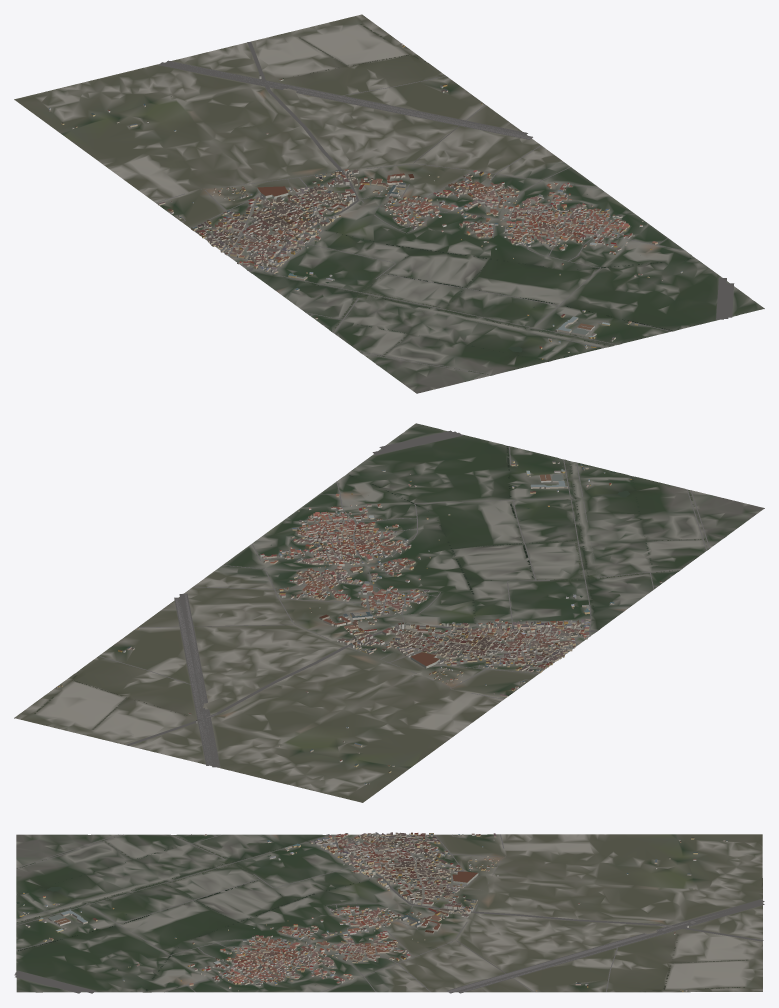
3 views of the same model, one above another, from view 1: azimuth 30°, elevation 25°; view 2: azimuth 150°, elevation 25°; view 3: azimuth 270°, elevation 25° (orthographic). The views are drawn at different scales.
Visible parts, largest first — view 1: ground, buildings, roads, water; view 2: ground, buildings, roads, water; view 3: ground, buildings, roads, water.
Part boxes in pixels (x1,y1,x2,y2): ground: [14, 14, 764, 393]; buildings: [48, 43, 682, 359]; roads: [155, 41, 734, 375]; water: [281, 24, 692, 375]; ground: [14, 423, 764, 802]; buildings: [56, 460, 661, 785]; roads: [98, 430, 709, 767]; water: [34, 446, 708, 729]; ground: [16, 834, 762, 992]; buildings: [19, 832, 727, 991]; roads: [14, 834, 764, 993]; water: [16, 835, 747, 992].
Size of the model in its own units: 1423 by 22.55 by 2820.
